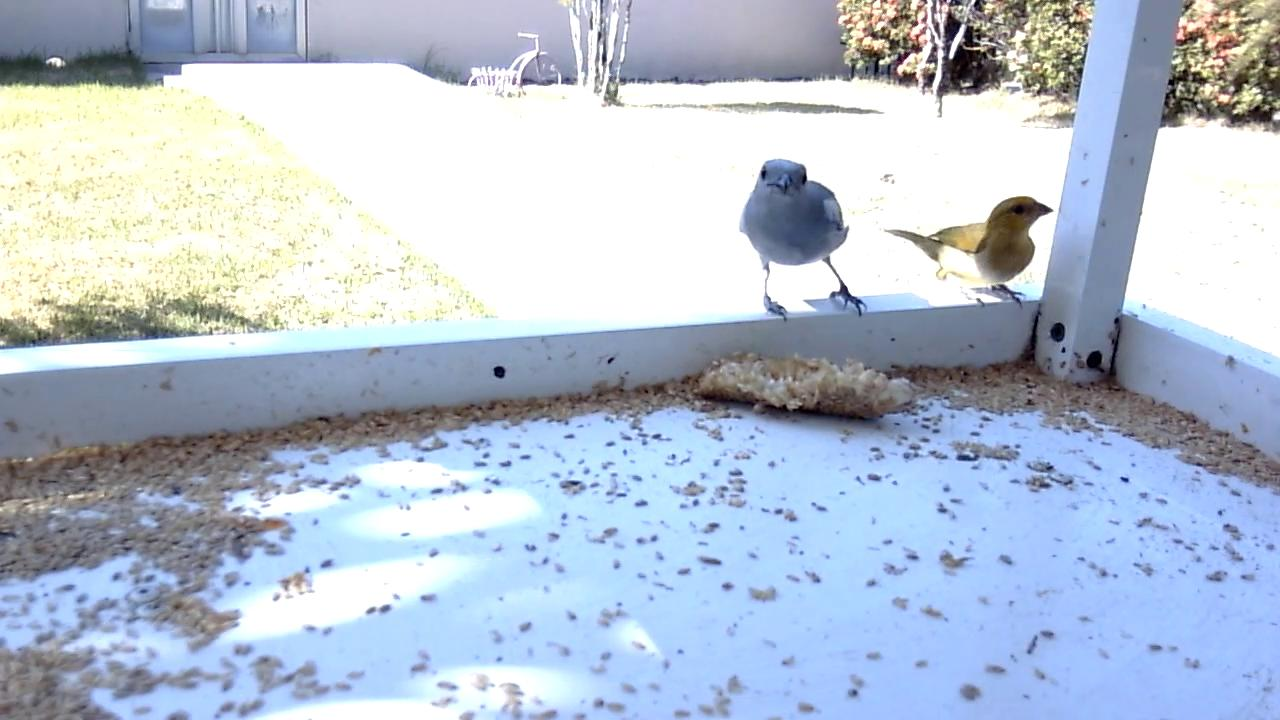canario_do_amazonas: (883, 194, 1056, 311)
sanhaco_da_amazonia: (736, 158, 872, 325)
